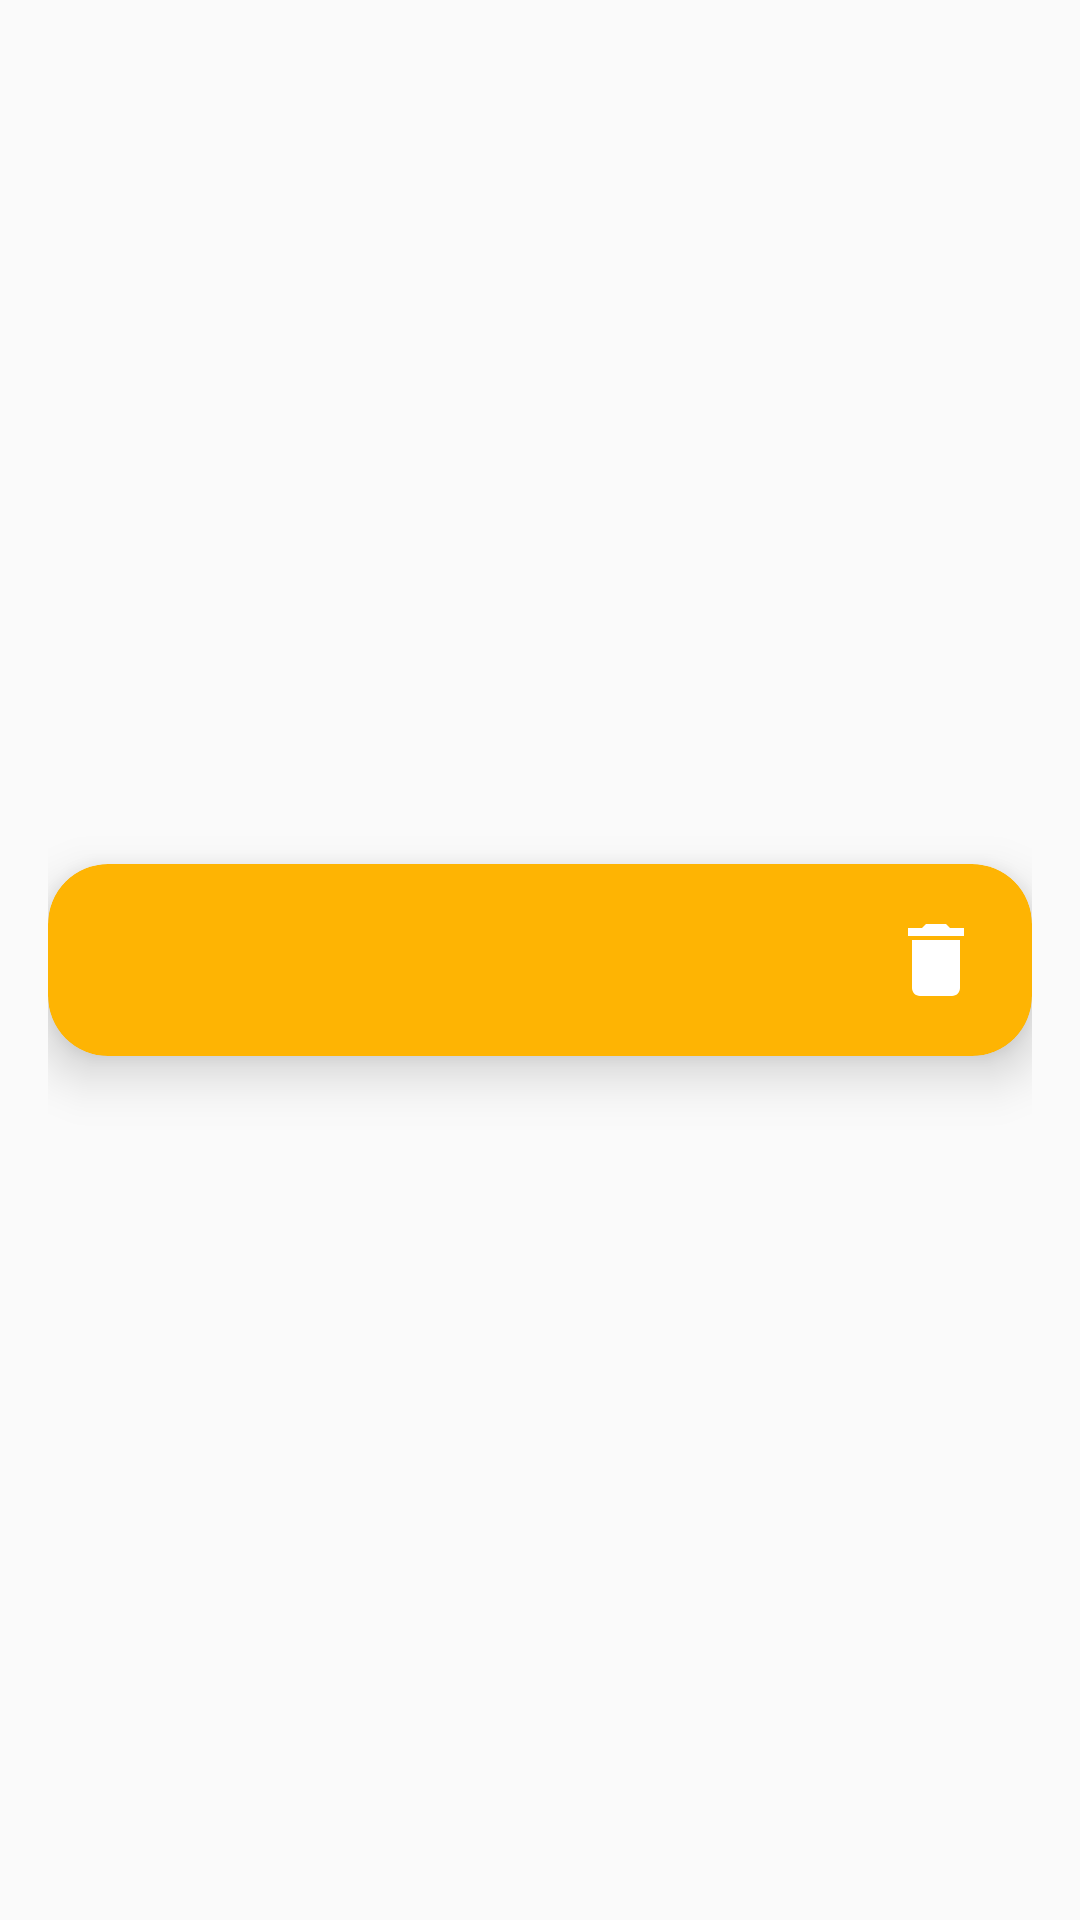

Screen size 1080px x 1920px. Icon name, then its center in pixels as point (x, y):
delete: point (936, 960)
